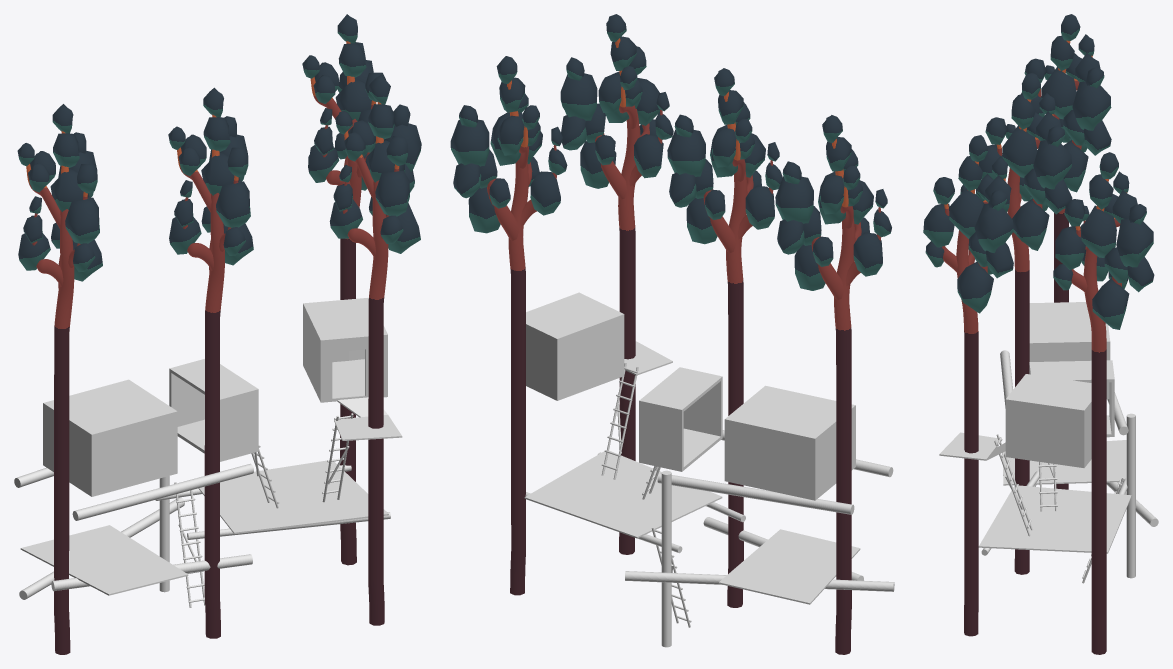
The model's file is baumhaus1.glb.
3 renders of one model, left to right at view 1: azimuth 30°, elevation 25°; view 2: azimuth 150°, elevation 25°; view 3: azimuth 270°, elevation 25°, orthographic. The views are drawn at different scales.
Parts seen in each view (by area): view 1: Tree01.002, Tree01.004, Tree01.003, Cube.002, Tree01, Cube, Cube.001, Cube.003, Cube.004, Cylinder.009, Cube.005, Cylinder.007 (+5 smaller); view 2: Tree01.004, Tree01, Tree01.002, Tree01.003, Cube.002, Cube.001, Cube, Cube.003, Cube.004, Cylinder.010, Cylinder.008, Cylinder.006 (+3 smaller); view 3: Tree01, Tree01.002, Tree01.003, Tree01.004, Cube.001, Cube, Cube.002, Cube.004, Cube.003, Cylinder.008, Cube.005, Cylinder.012 (+3 smaller).
Part boxes in pixels (x1=…): Tree01.002: x1=329, y1=75, x2=421, y2=625; Tree01.004: x1=17, y1=104, x2=102, y2=654; Tree01.003: x1=168, y1=87, x2=253, y2=638; Cube.002: x1=43, y1=379, x2=177, y2=496; Tree01: x1=302, y1=14, x2=385, y2=565; Cube: x1=198, y1=460, x2=388, y2=533; Cube.001: x1=303, y1=297, x2=387, y2=402; Cube.003: x1=169, y1=359, x2=258, y2=461; Cube.004: x1=20, y1=525, x2=188, y2=595; Cylinder.009: x1=72, y1=463, x2=253, y2=520; Cube.005: x1=334, y1=397, x2=402, y2=440; Cylinder.007: x1=51, y1=554, x2=252, y2=591; Tree01.004: x1=775, y1=115, x2=891, y2=654; Tree01: x1=450, y1=56, x2=567, y2=595; Tree01.002: x1=560, y1=14, x2=673, y2=554; Tree01.003: x1=667, y1=68, x2=782, y2=607; Cube.002: x1=724, y1=385, x2=855, y2=500; Cube.001: x1=526, y1=292, x2=624, y2=400; Cube: x1=524, y1=450, x2=722, y2=538; Cube.003: x1=639, y1=367, x2=722, y2=471; Cube.004: x1=718, y1=529, x2=860, y2=604; Cylinder.010: x1=657, y1=473, x2=854, y2=514; Cylinder.008: x1=661, y1=470, x2=671, y2=647; Cylinder.006: x1=625, y1=571, x2=894, y2=591; Tree01: x1=1053, y1=152, x2=1154, y2=654; Tree01.002: x1=923, y1=135, x2=1013, y2=636; Tree01.003: x1=976, y1=72, x2=1072, y2=574; Tree01.004: x1=1020, y1=14, x2=1111, y2=489; Cube.001: x1=1005, y1=374, x2=1091, y2=467; Cube: x1=978, y1=485, x2=1131, y2=553; Cube.002: x1=1029, y1=302, x2=1110, y2=399; Cube.004: x1=1002, y1=440, x2=1126, y2=485; Cube.003: x1=1029, y1=360, x2=1114, y2=437; Cylinder.008: x1=1126, y1=413, x2=1135, y2=578; Cube.005: x1=939, y1=432, x2=1005, y2=460; Cylinder.012: x1=994, y1=434, x2=1032, y2=536.
Size of the model in its own units: 16.01 by 20.68 by 8.8.
Materials: 1 (1 with a texture image).
